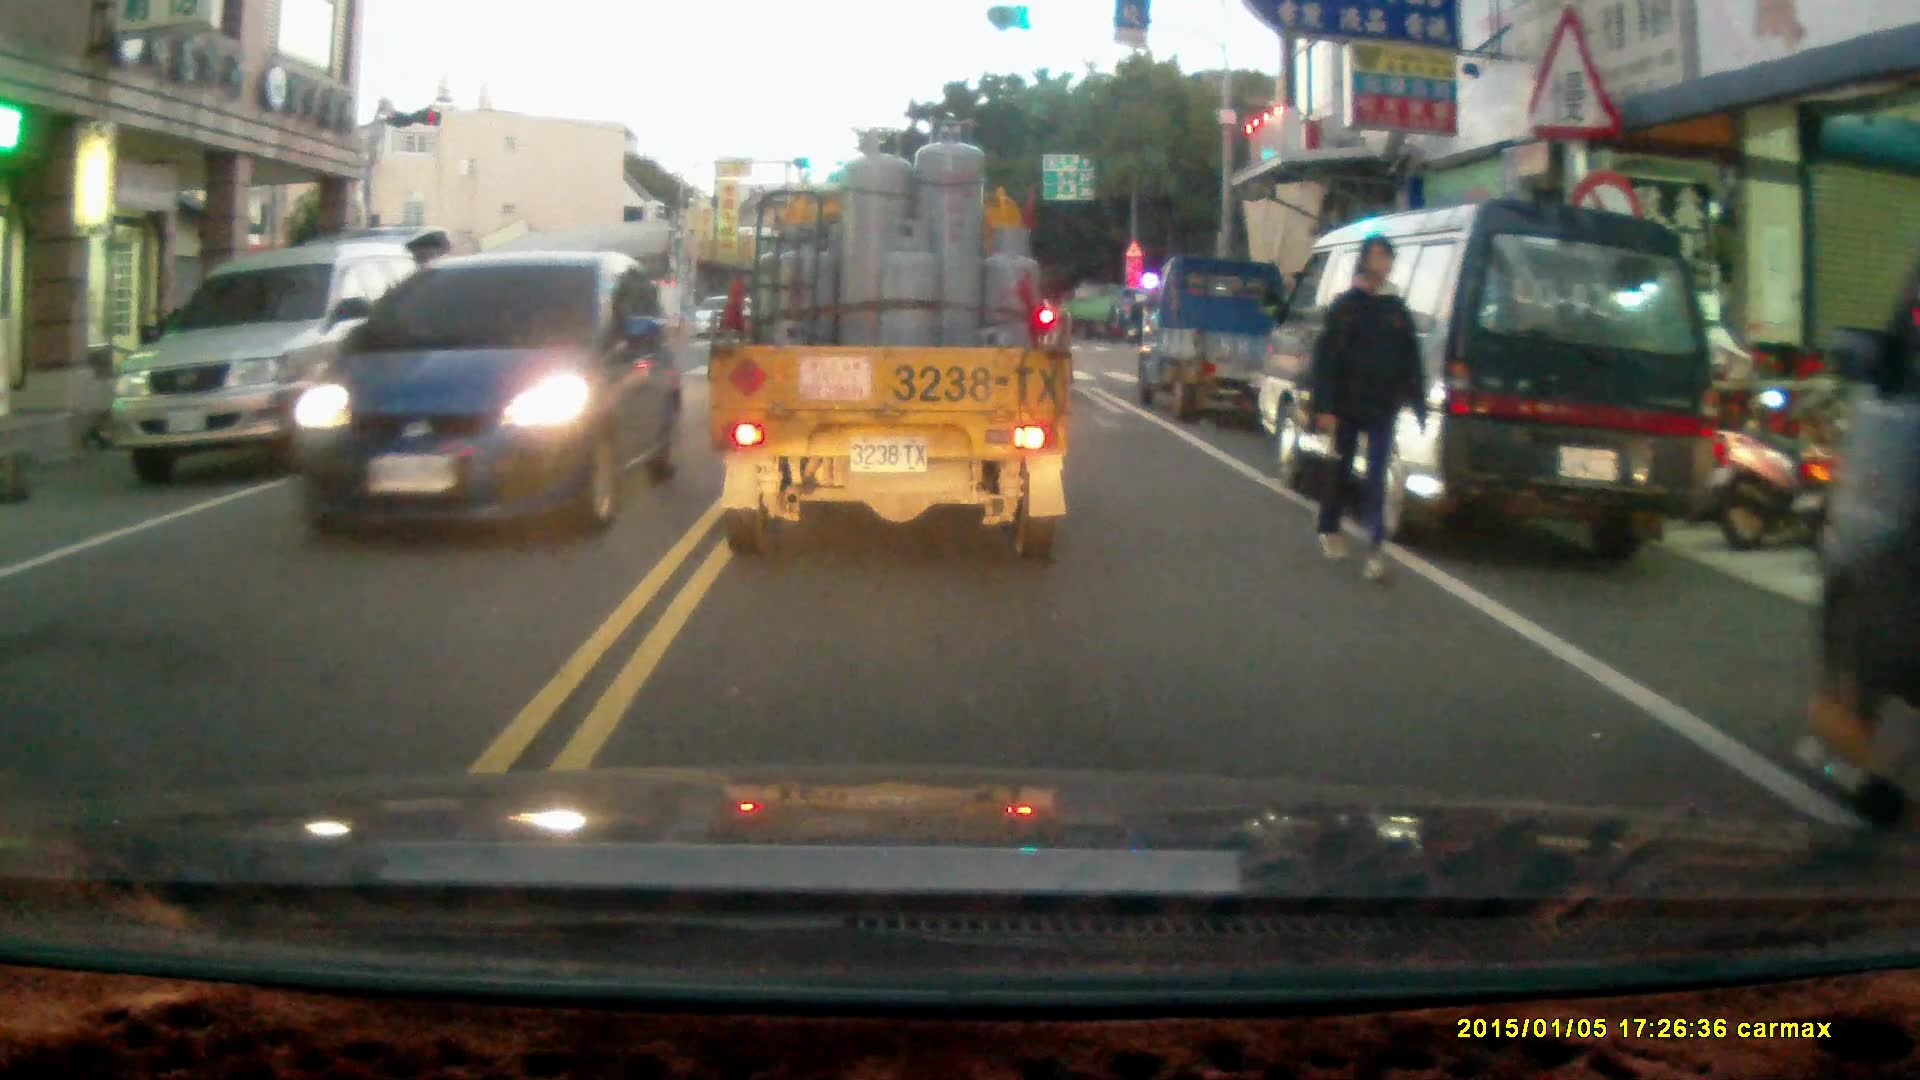pedestrian: (1307, 232, 1429, 584)
vehicle: (1261, 196, 1714, 565), (707, 120, 1073, 552), (275, 248, 691, 539), (107, 241, 449, 488), (334, 292, 552, 424), (1124, 246, 1285, 413)
